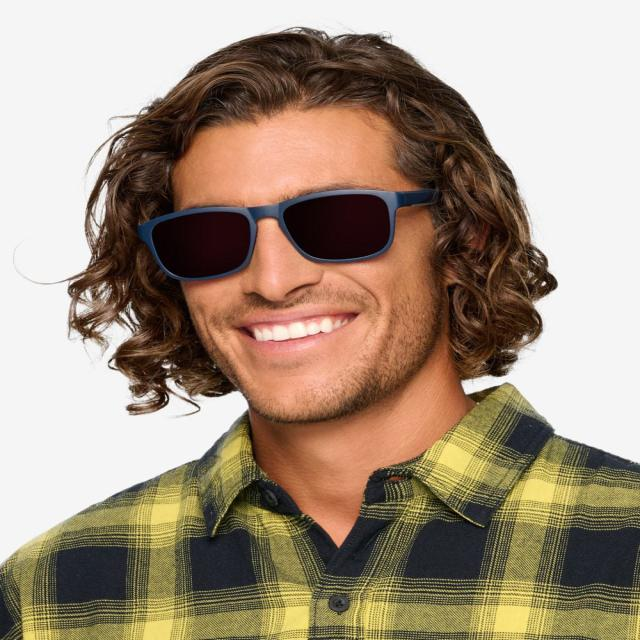2_gafas: (136, 186, 443, 282)
